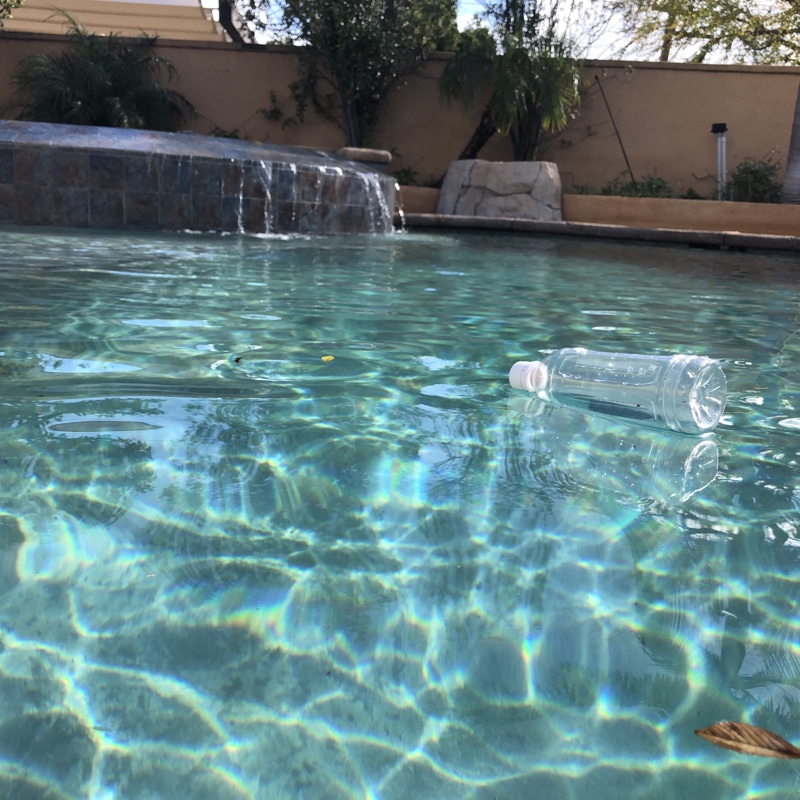Plastic Bottle: (502, 342, 731, 441)
